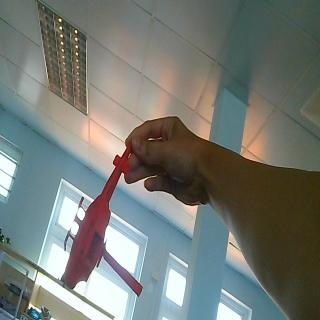Helicopter: (62, 144, 144, 296)
